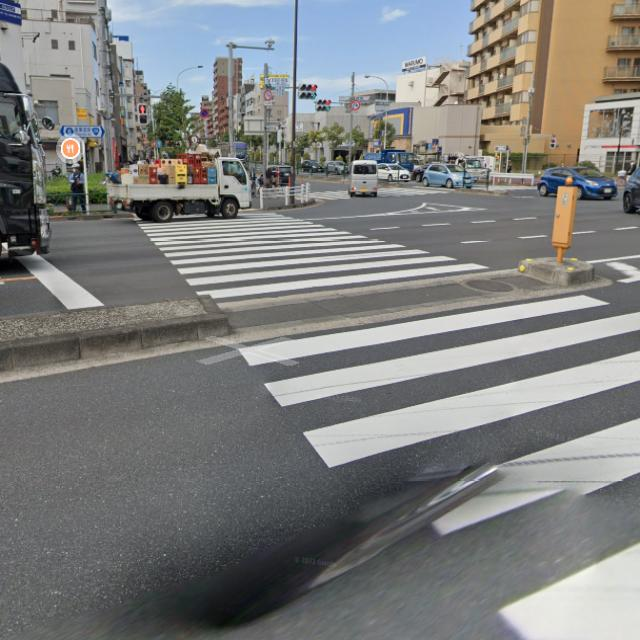traffic-light: (137, 104, 149, 124)
